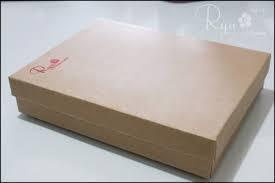box: (9, 18, 272, 180)
